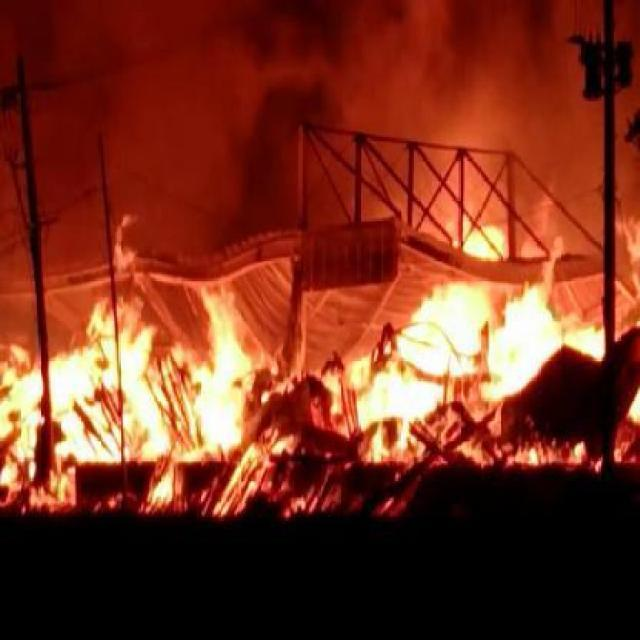Fire: (2, 286, 262, 512), (3, 331, 177, 468), (476, 278, 611, 405), (396, 274, 497, 386), (182, 306, 253, 462), (364, 434, 638, 471), (353, 357, 449, 455), (279, 429, 310, 520), (327, 489, 410, 520), (462, 220, 506, 260), (466, 228, 512, 264), (616, 218, 638, 286), (112, 214, 136, 274), (630, 390, 640, 428), (0, 463, 17, 483), (30, 461, 36, 477)
